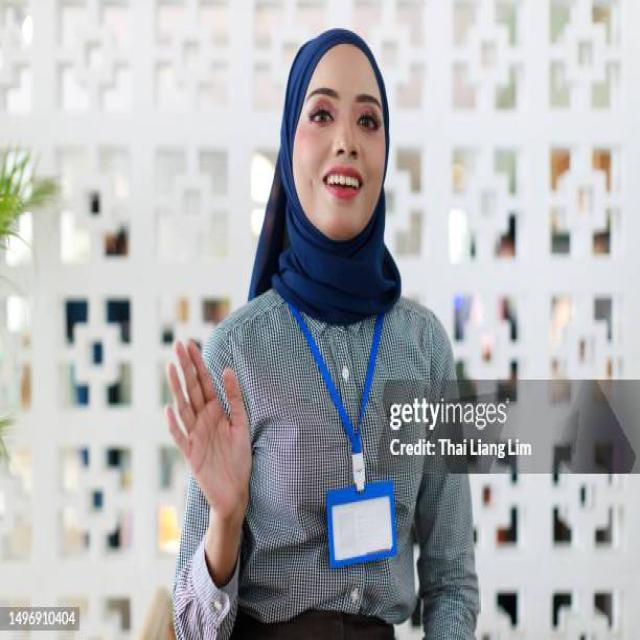Hand: (162, 331, 255, 531)
